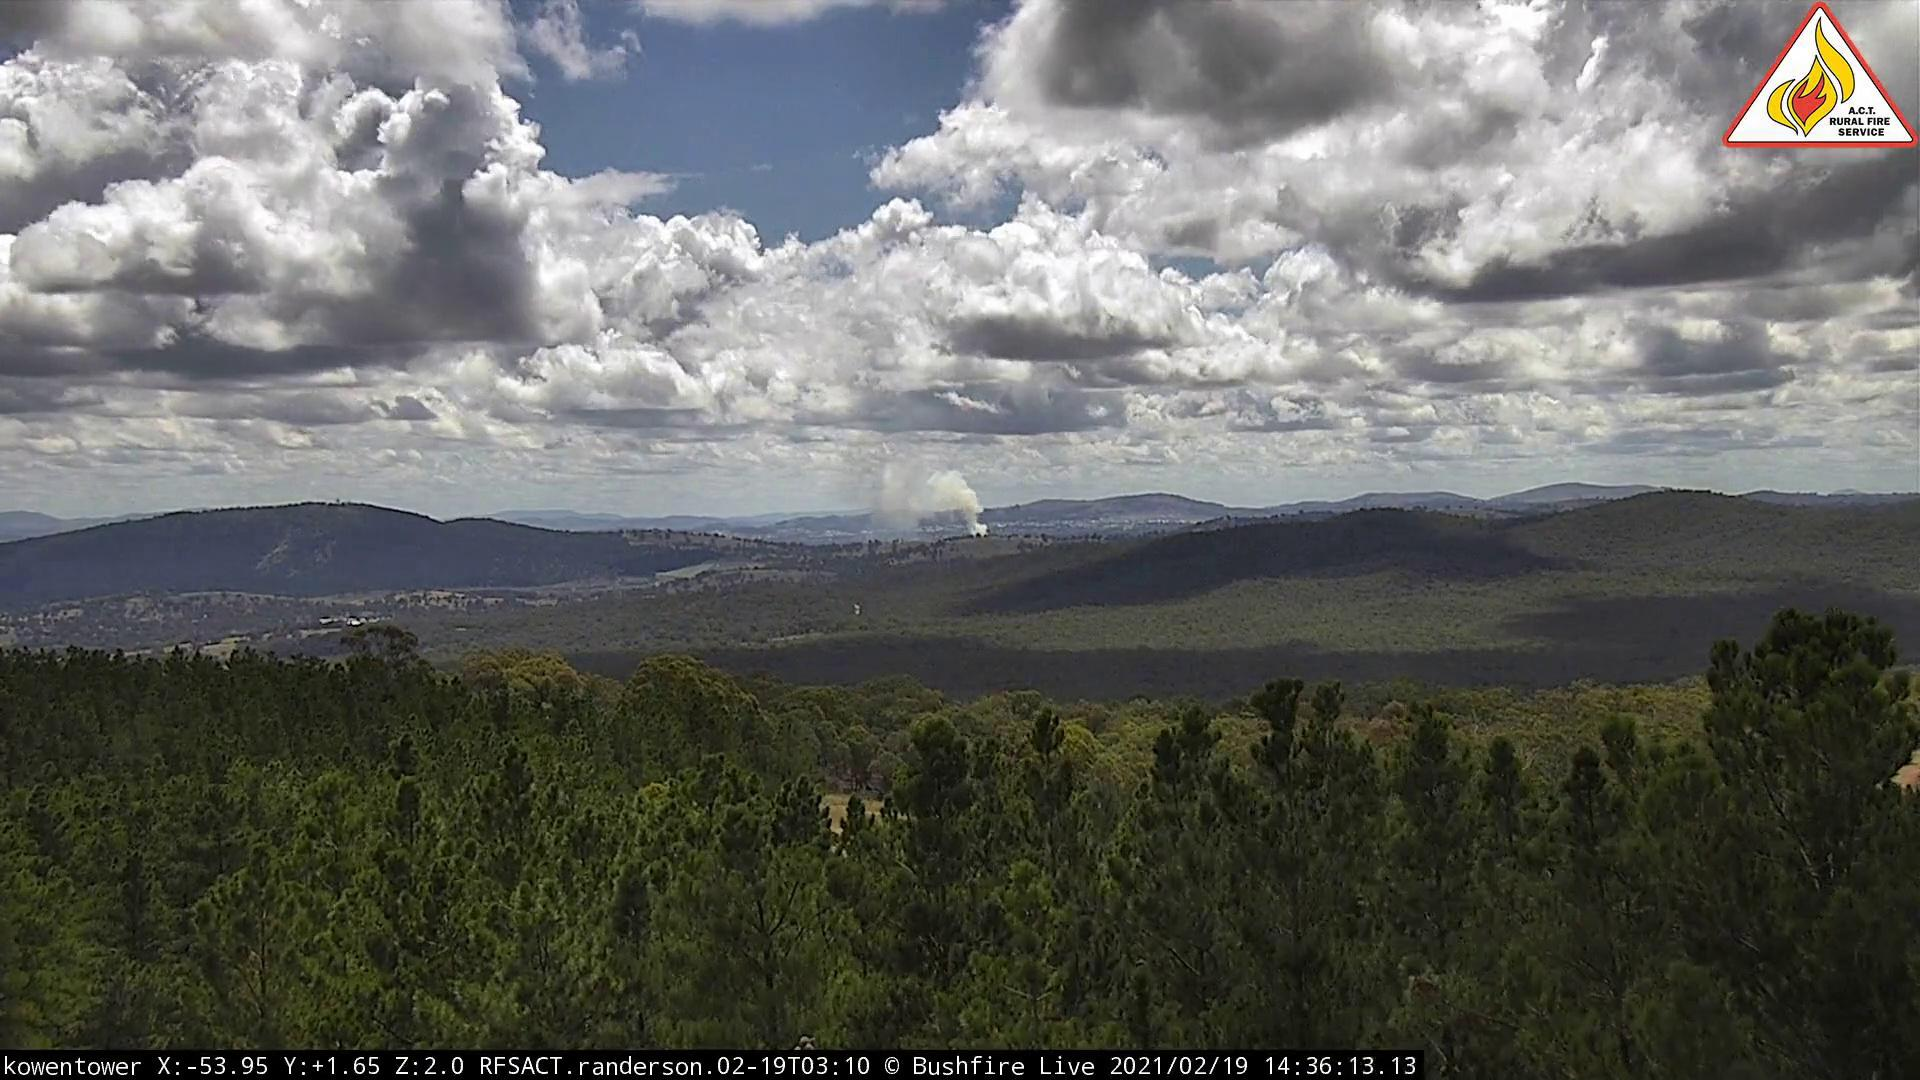Smoke: (848, 448, 997, 545)
